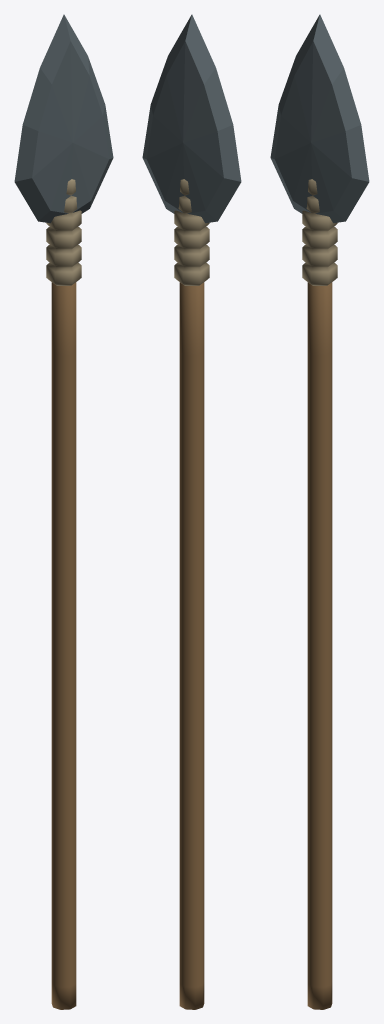
File: primitive_stone_spear_lod0.glb
The picture shows the model from 3 angles, left to right: view 1: azimuth 30°, elevation 25°; view 2: azimuth 150°, elevation 25°; view 3: azimuth 330°, elevation 25°; orthographic projection.
Parts seen in each view (by area): view 1: primitive_stone_spear_lod0; view 2: primitive_stone_spear_lod0; view 3: primitive_stone_spear_lod0.
Part boxes in pixels (bbox=[...]): primitive_stone_spear_lod0: bbox=[14, 14, 113, 1009]; primitive_stone_spear_lod0: bbox=[142, 14, 241, 1009]; primitive_stone_spear_lod0: bbox=[270, 14, 369, 1009].
Size of the model in its own units: 0.206 by 1.97 by 0.064.
